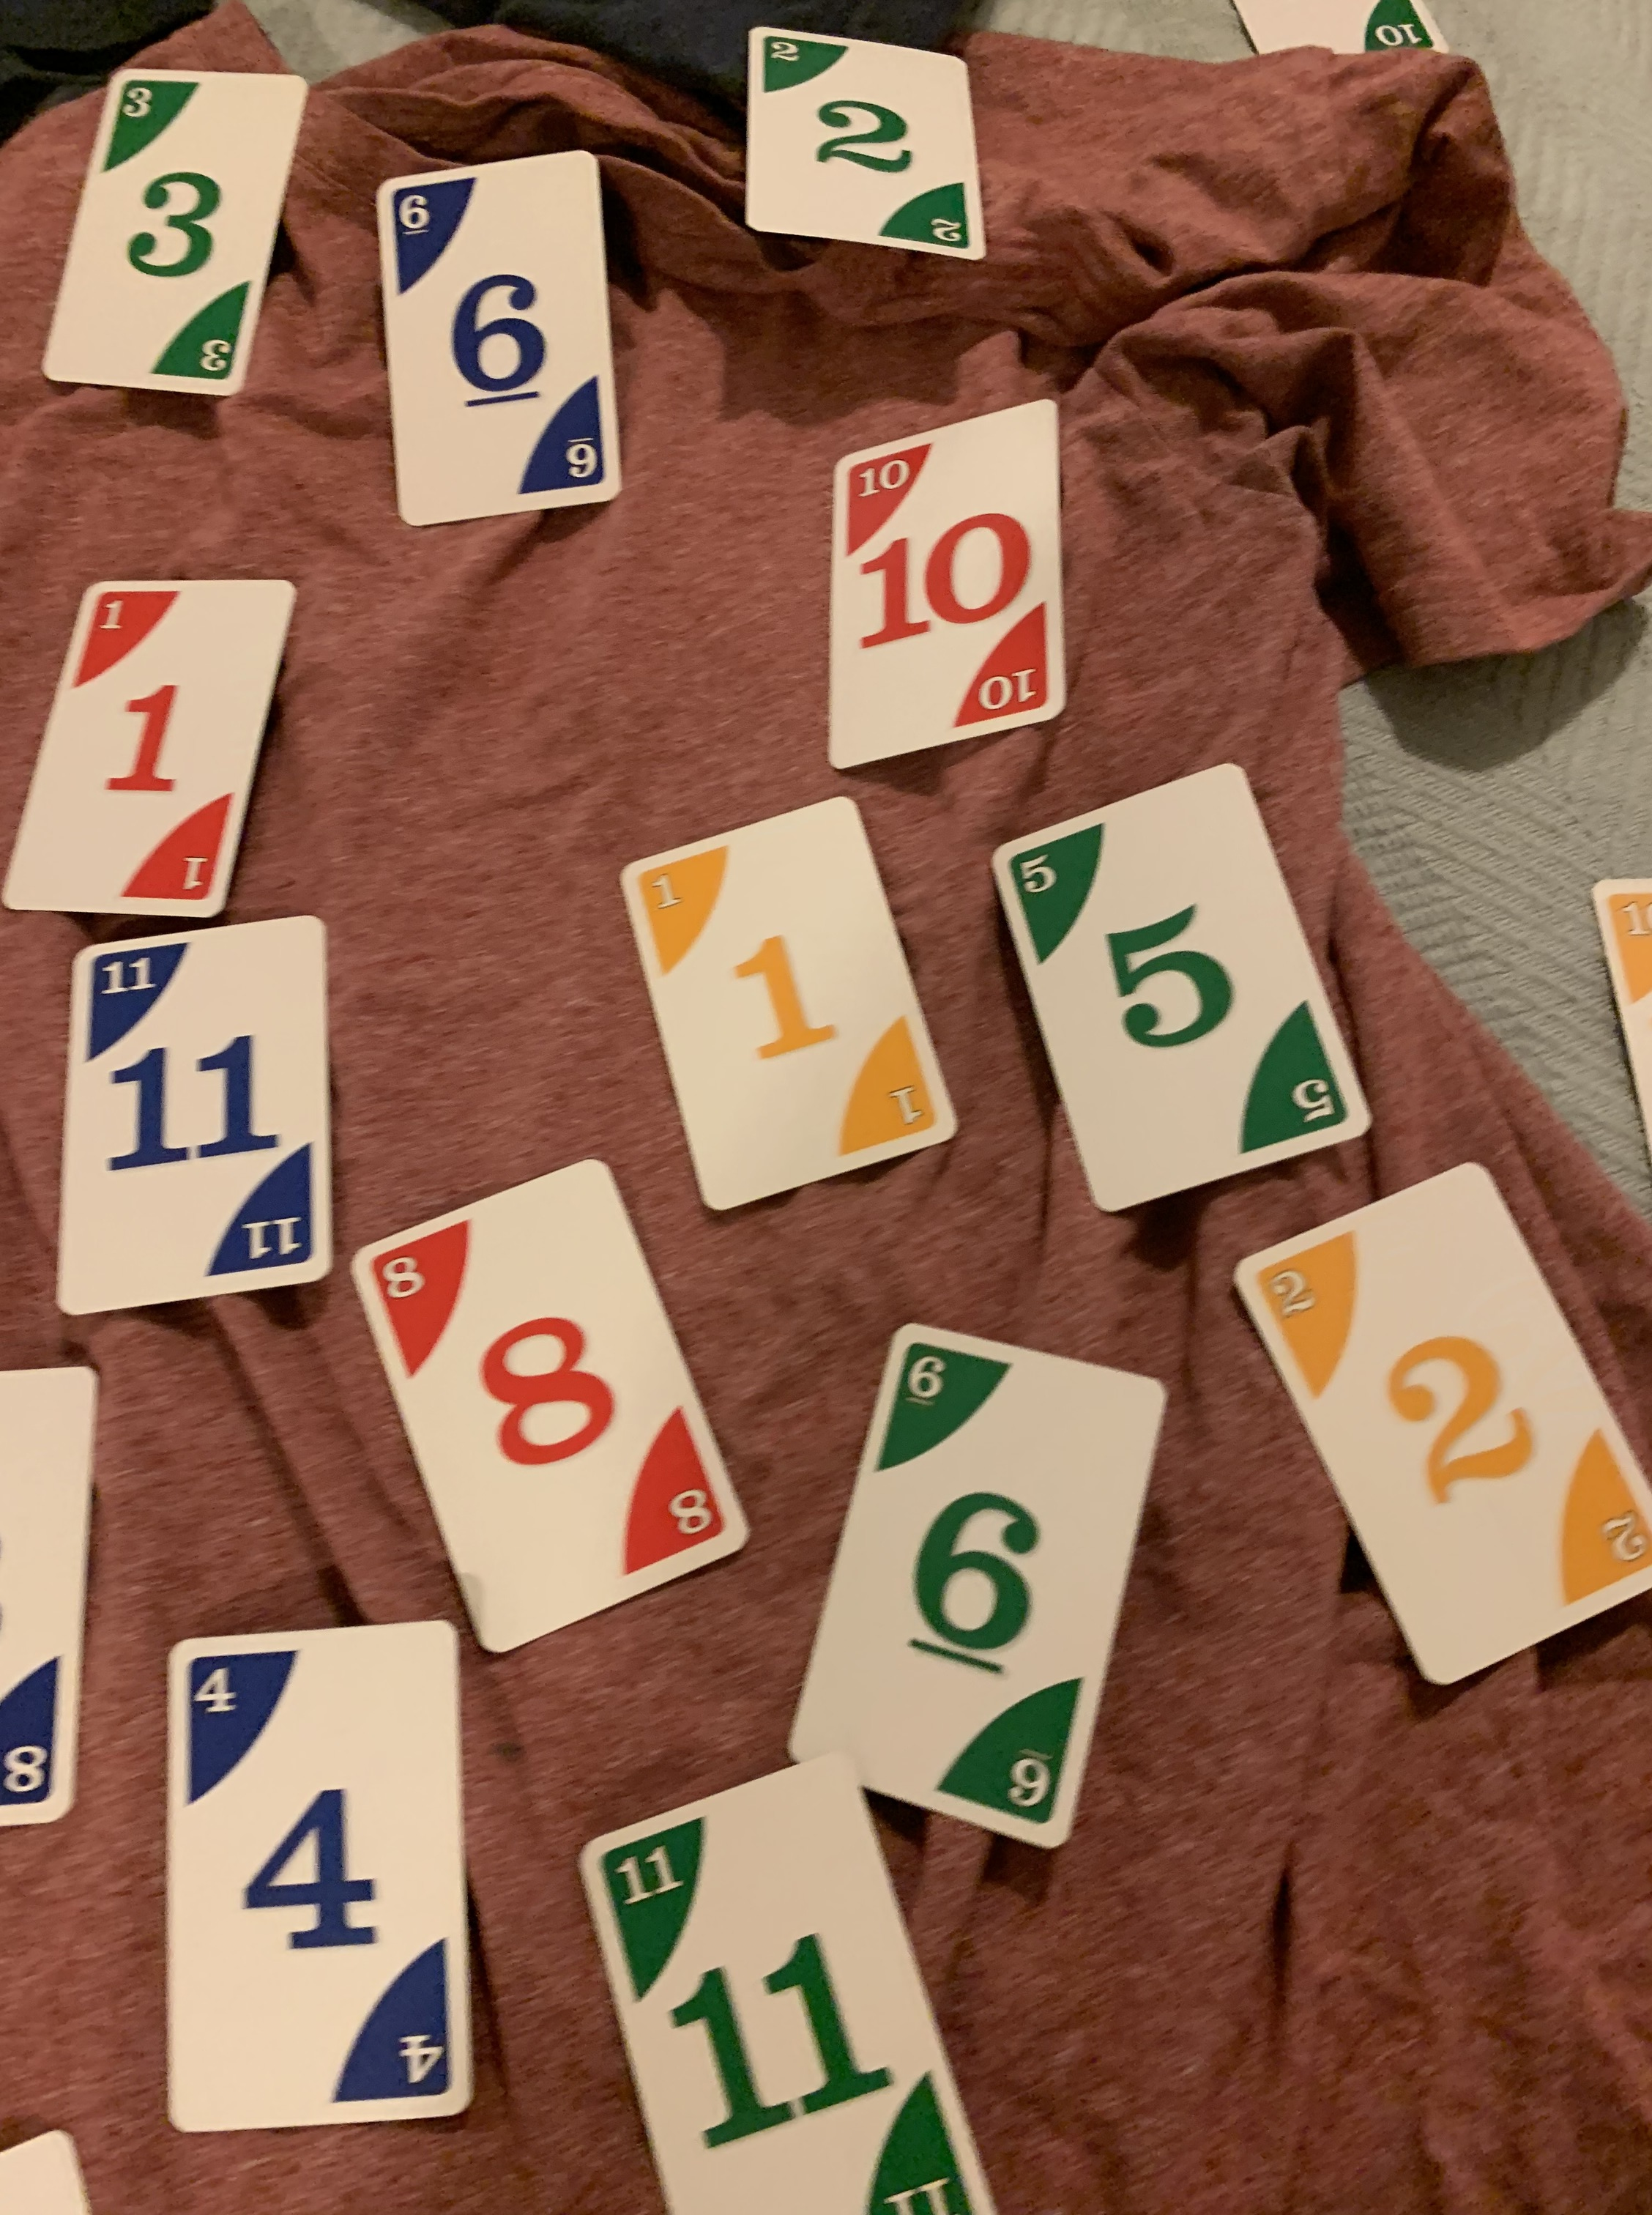eight: (323, 1151, 762, 1673)
eleven: (562, 1745, 1012, 2215), (45, 901, 338, 1319)
four: (161, 1611, 482, 2140)
one: (607, 781, 954, 1215), (12, 578, 305, 906)
six: (776, 1324, 1144, 1842), (385, 144, 616, 540)
ten: (823, 394, 1074, 764)
three: (35, 64, 312, 399)
two: (1220, 1160, 1652, 1712), (732, 19, 1000, 267)
